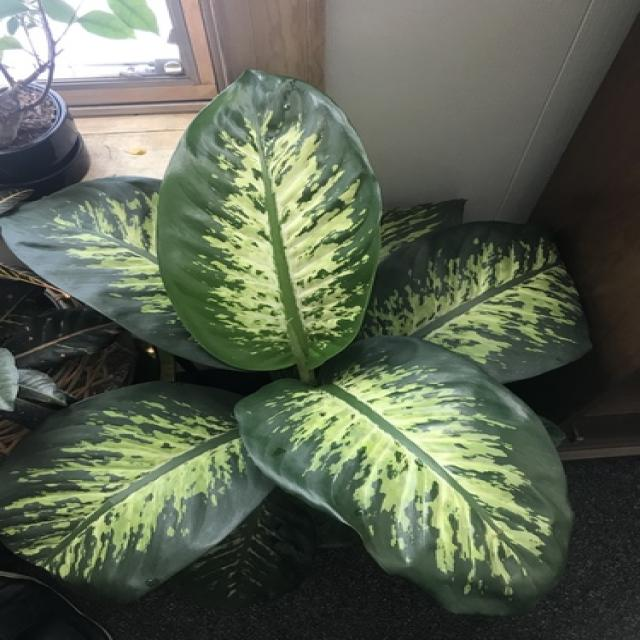dieffenbachia-oVHx: (0, 69, 593, 615)
